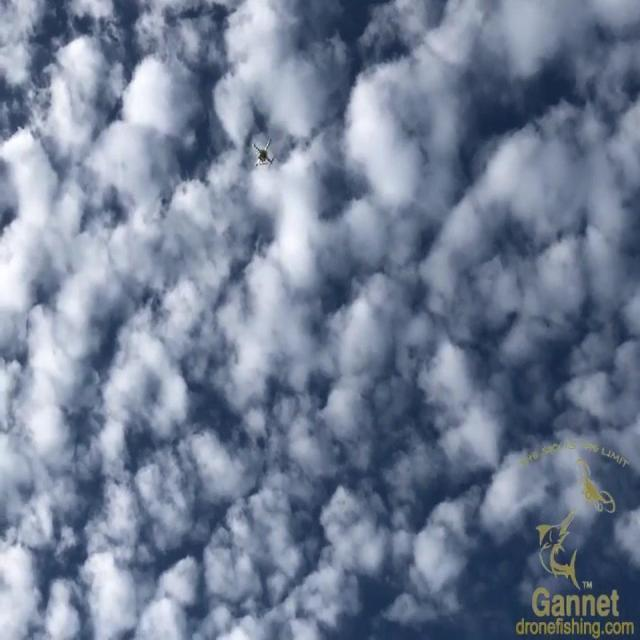drone: (250, 140, 274, 169)
